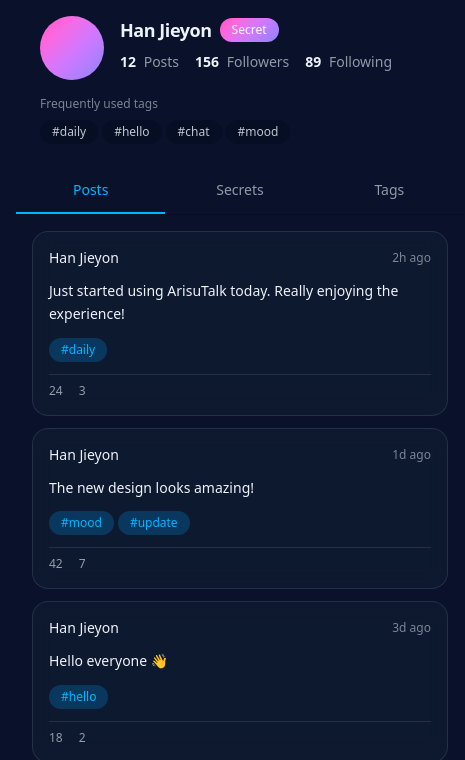
Scenario: SNSProfile Component › switches to secrets tab
# Click Secrets tab
Click the button "Secrets" at (240,191), box left=165, top=168, right=315, bottom=214
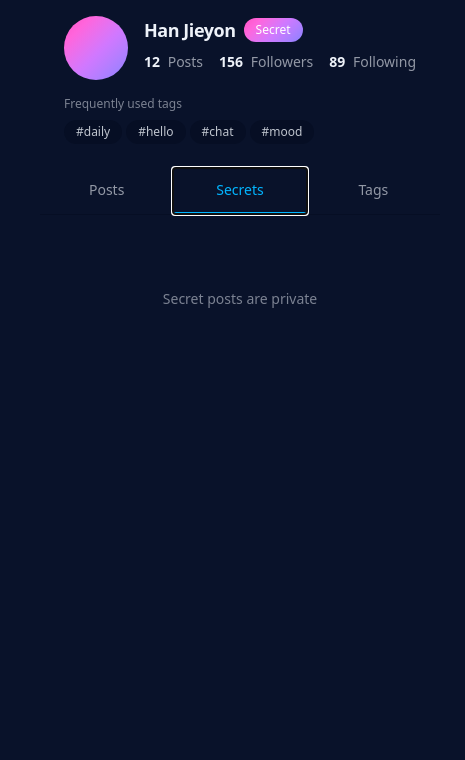
expect the text "Secret posts are private" is shown: met, box left=163, top=289, right=317, bottom=309
